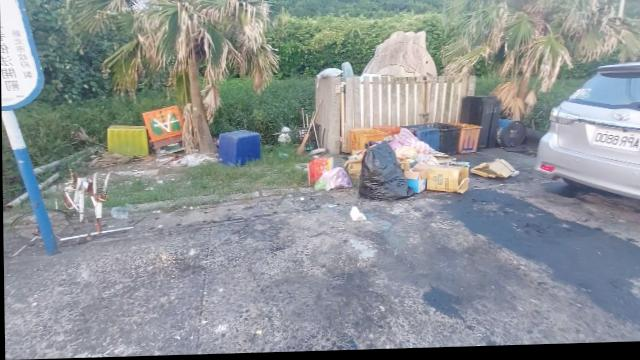pollute: (307, 122, 521, 205), (105, 105, 219, 166), (59, 173, 110, 228), (217, 129, 261, 169), (348, 209, 368, 222)
